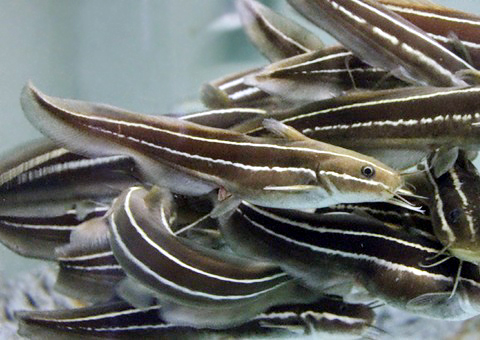gonzui: (14, 70, 412, 211)
